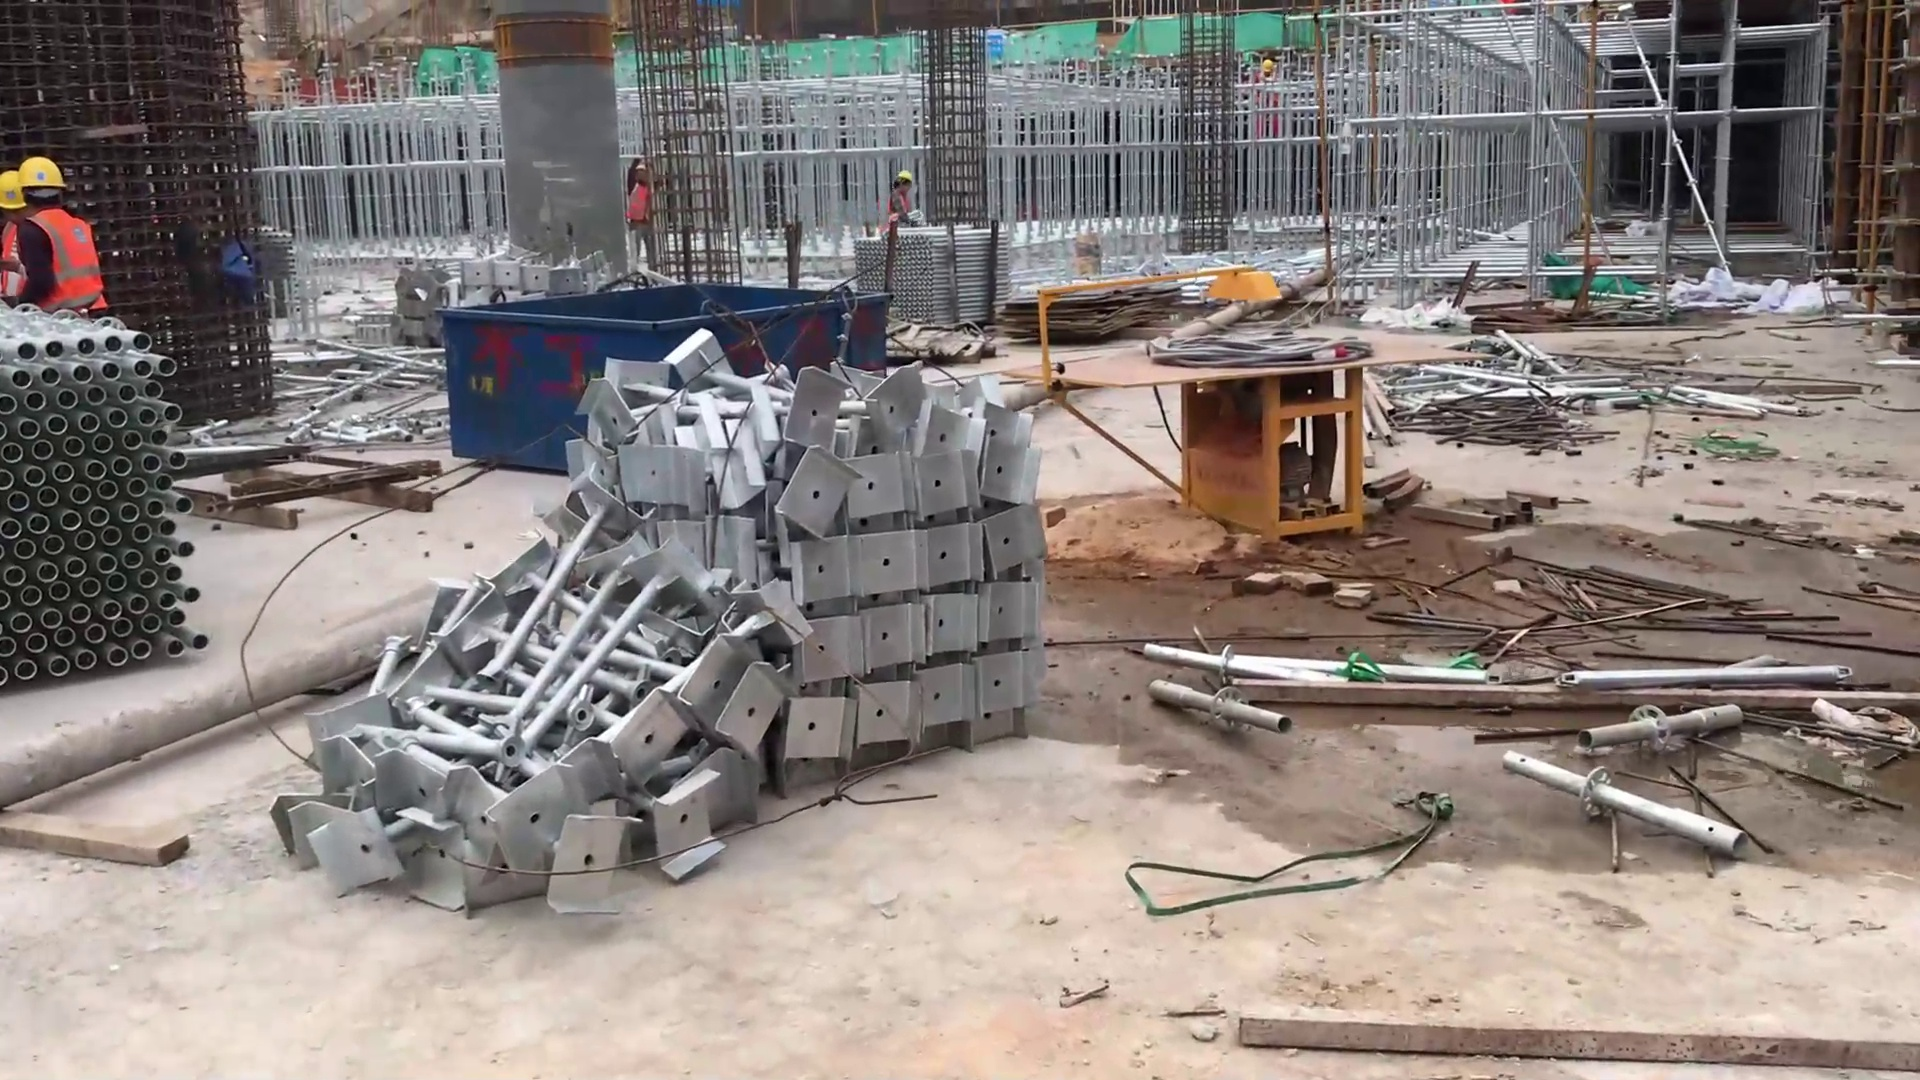cutter: (1030, 245, 1501, 545)
ebox: (1189, 390, 1377, 531)
helmet: (16, 156, 68, 194), (1, 168, 25, 214), (895, 170, 914, 180)
person: (14, 155, 112, 324), (615, 152, 662, 272), (885, 168, 924, 227)
scaffold: (236, 333, 1049, 933), (1, 316, 222, 705), (856, 227, 1018, 331)
vest: (32, 208, 108, 313), (626, 186, 659, 227)
